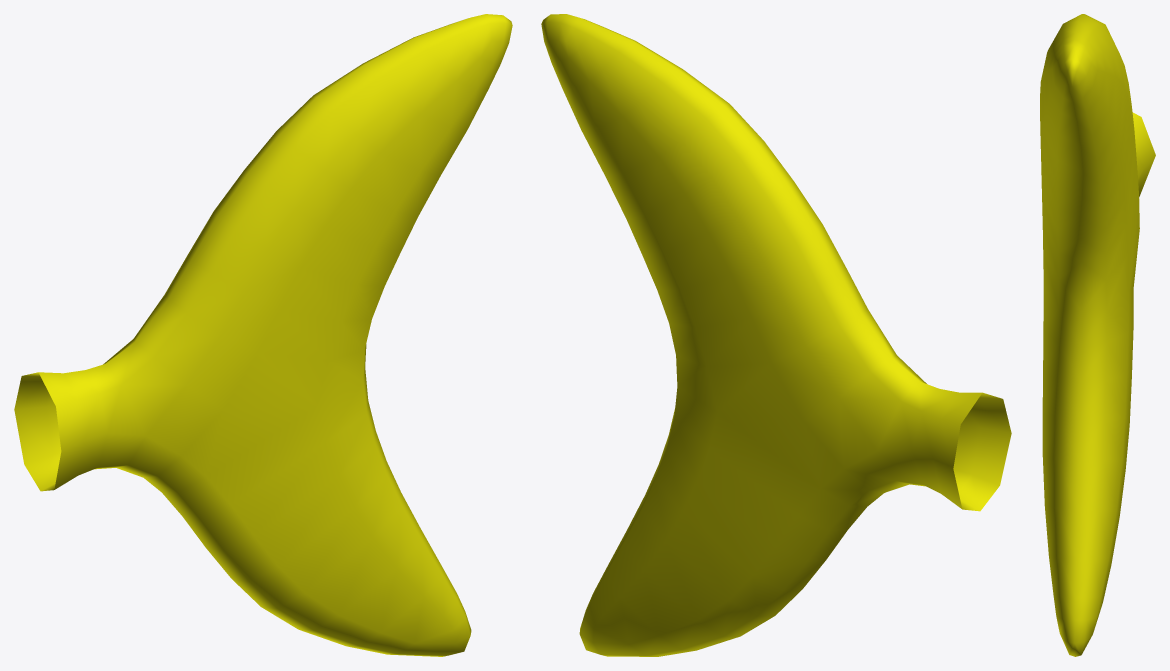
Rendered from queue_fish_yellow.glb.
3 views of the same model, side by side, from view 1: azimuth 30°, elevation 25°; view 2: azimuth 150°, elevation 25°; view 3: azimuth 270°, elevation 25° (orthographic).
Visible parts, largest first — view 1: Model.038; view 2: Model.038; view 3: Model.038.
Boxes of the visible parts, x1,y1,x2,y2 form: Model.038: (14, 14, 512, 656); Model.038: (541, 14, 1011, 656); Model.038: (1040, 14, 1155, 656).
Bounding box in the file's own units: 0.2182 × 0.2872 × 0.0483.
